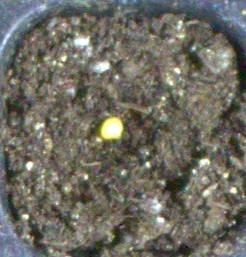pepper seed: (38, 46, 162, 186)
